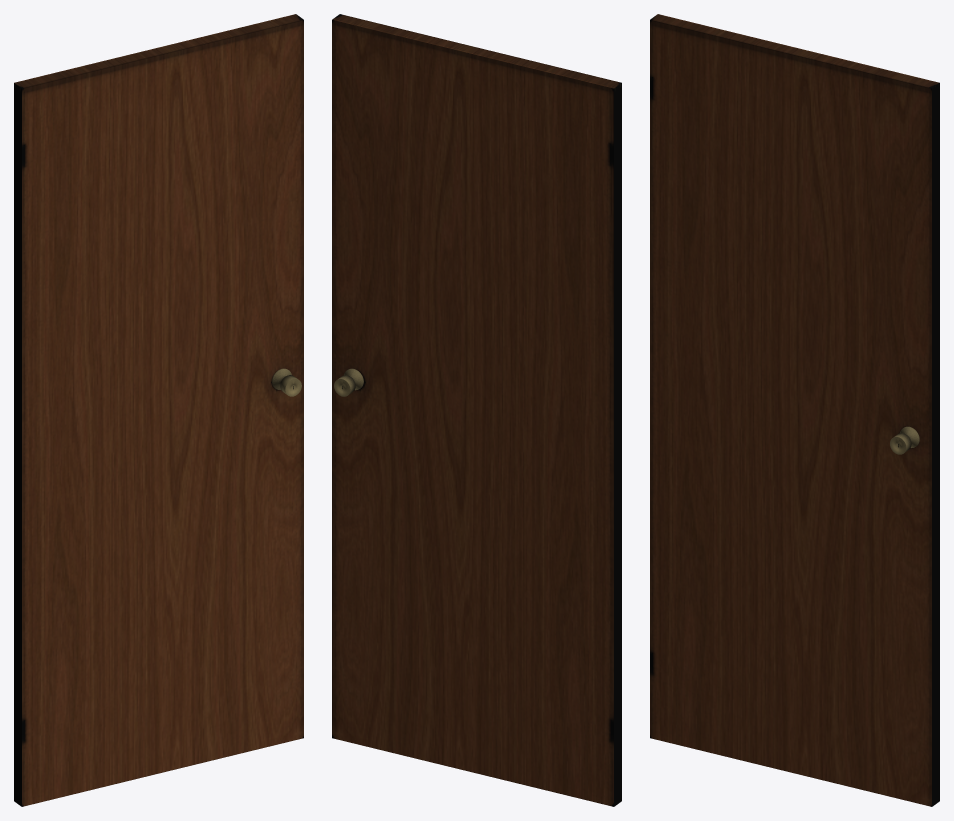
Rendered from door.fbx.
3 renders of one model, left to right at view 1: azimuth 30°, elevation 25°; view 2: azimuth 150°, elevation 25°; view 3: azimuth 330°, elevation 25°, orthographic.
Visible parts, largest first — view 1: Scene_Root; view 2: Scene_Root; view 3: Scene_Root.
Part boxes in pixels (box(x1,y1,x2,y2)): Scene_Root: box(14, 14, 303, 806); Scene_Root: box(332, 14, 621, 806); Scene_Root: box(650, 14, 939, 806).
Size of the model in its own units: 2.96 by 7.2 by 0.5743.
